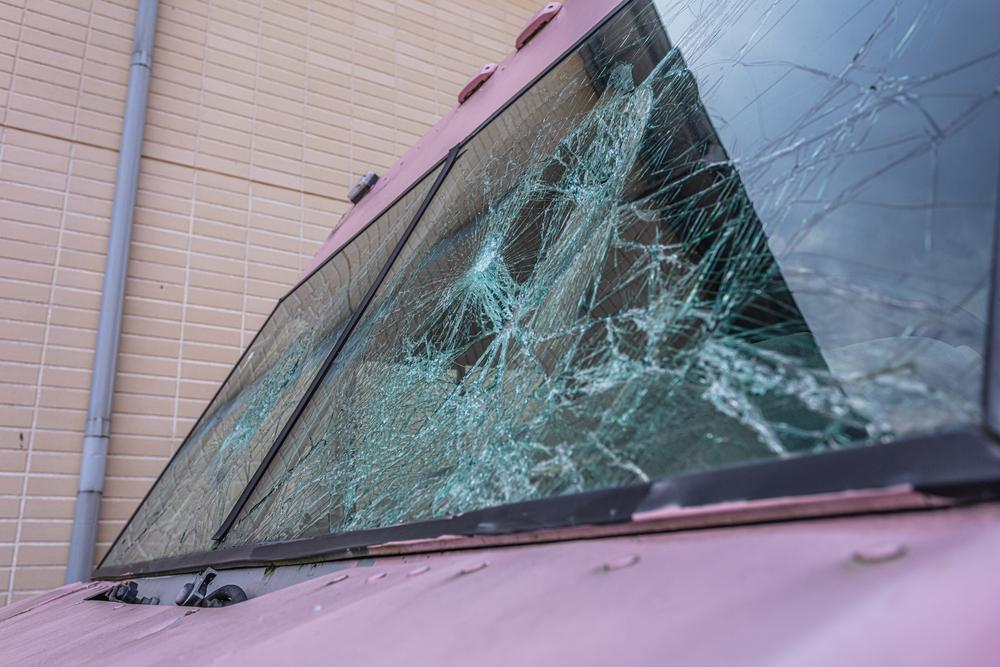glass shatter: (97, 0, 1000, 569)
